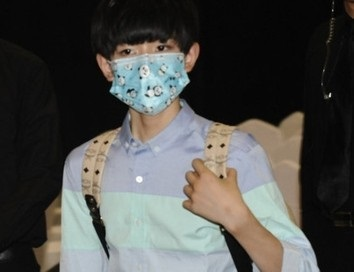face_mask: (109, 27, 184, 114)
